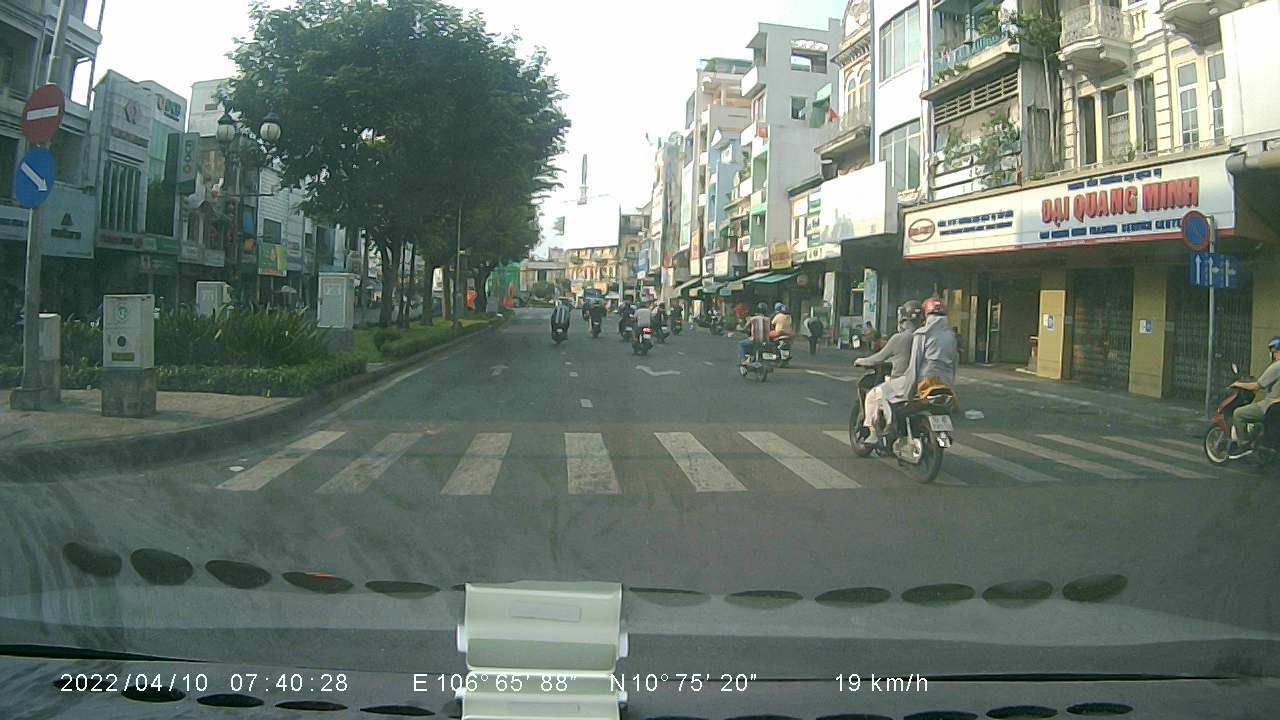Bien khac: (1186, 248, 1238, 291)
Cam di nguoc chieu: (15, 82, 71, 142)
Cam do xe: (1174, 204, 1215, 250)
Huong di phai re phai: (10, 146, 56, 209)
